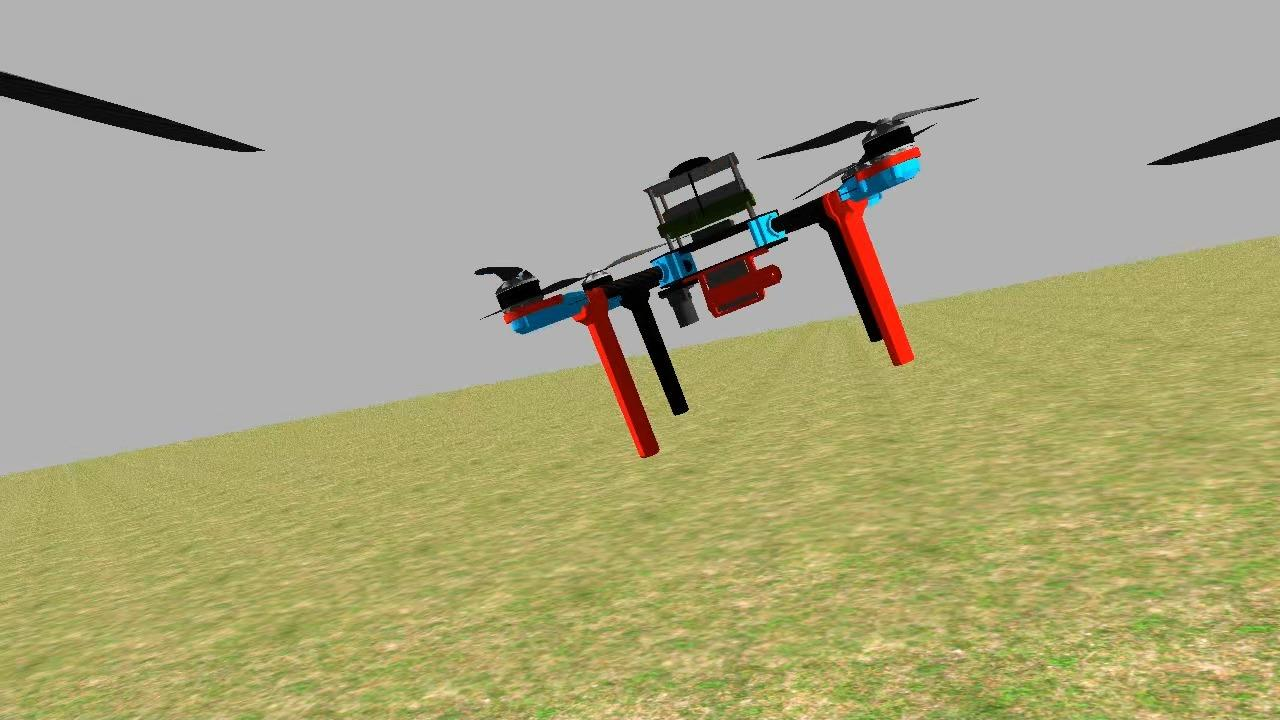UAV: (469, 97, 941, 489)
